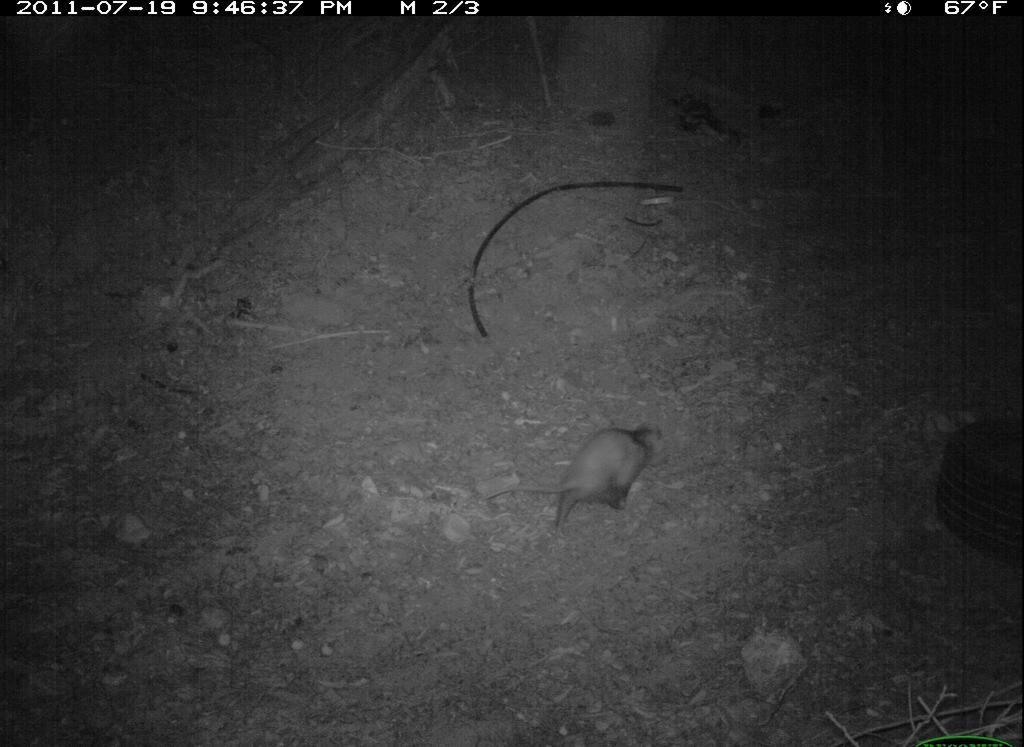opossum: (470, 420, 689, 536)
